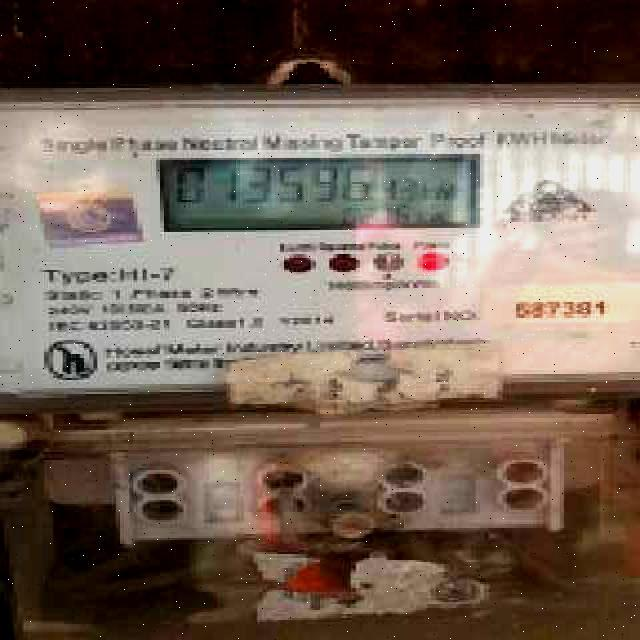LCD: (150, 153, 483, 235)
